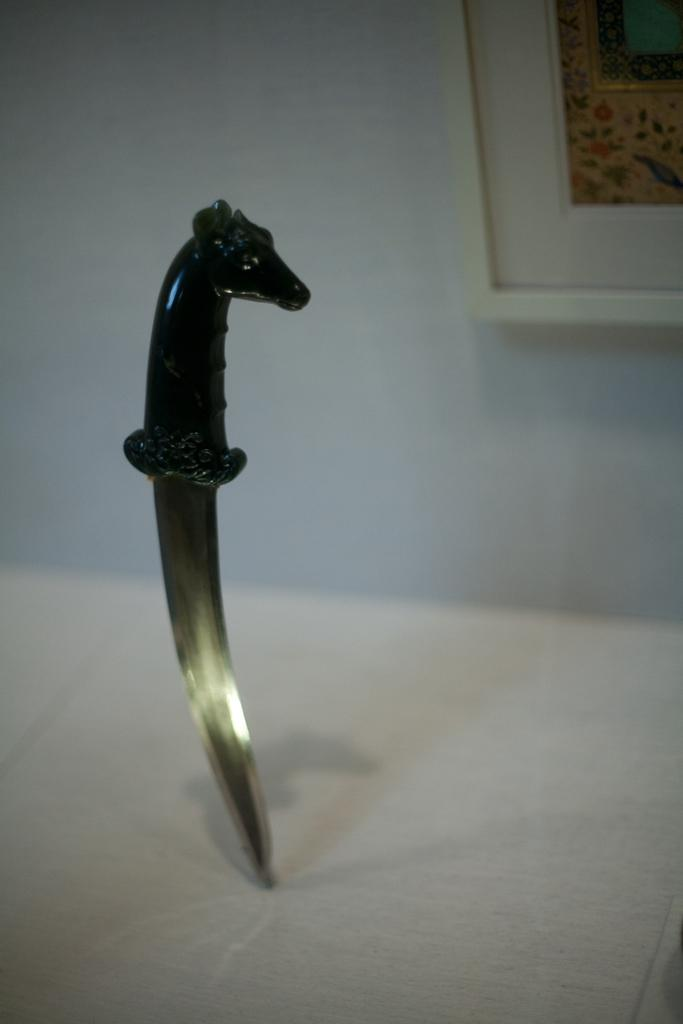Knife: (121, 200, 309, 888)
